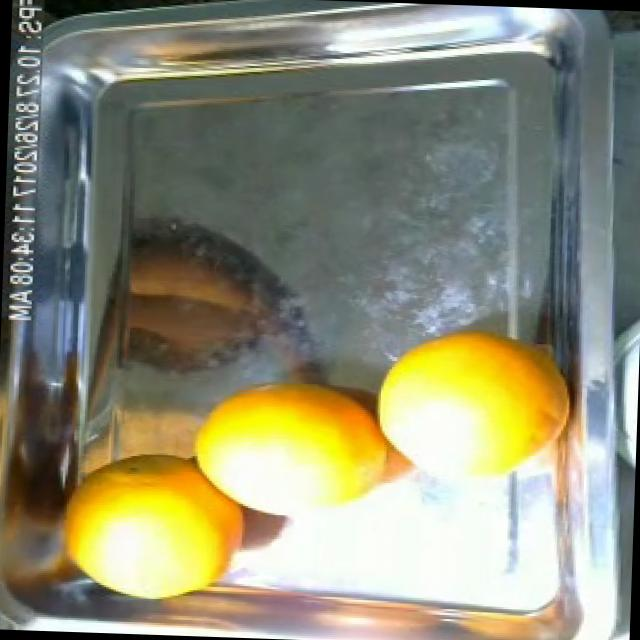Fruit: (90, 210, 304, 417), (42, 435, 264, 612)
